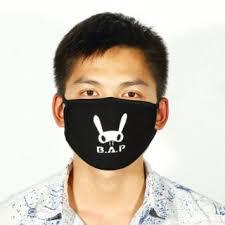OK: (65, 59, 160, 171)
